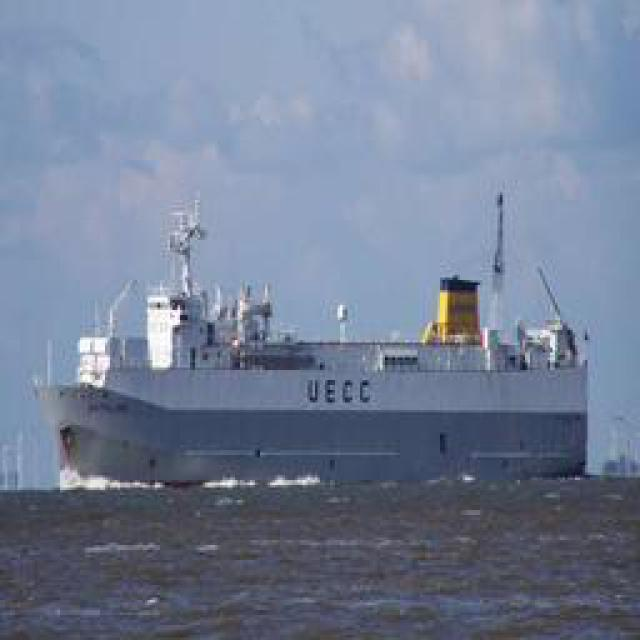Ship: (34, 187, 604, 480)
